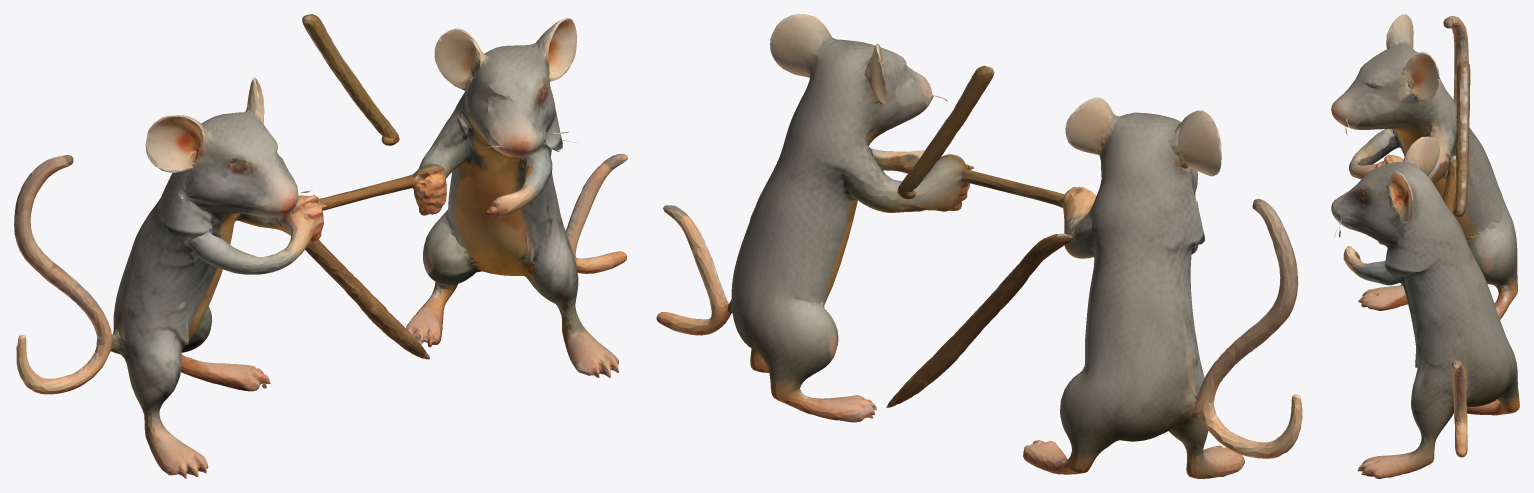
The picture shows the model from 3 angles, left to right: view 1: azimuth 30°, elevation 25°; view 2: azimuth 150°, elevation 25°; view 3: azimuth 270°, elevation 25°; orthographic projection. The views are drawn at different scales.
Parts seen in each view (by area): view 1: 039; view 2: 039; view 3: 039.
Boxes of the visible parts, bbox=[...] form: 039: bbox=[14, 14, 627, 478]; 039: bbox=[656, 14, 1302, 478]; 039: bbox=[1331, 14, 1519, 478].
Bounding box in the file's own units: 1.9 × 1.11 × 0.6064.
1 material, 1 textured.
